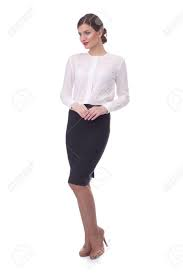F_shirt: (61, 50, 130, 110)
F_tailored skirt: (61, 104, 116, 189)
